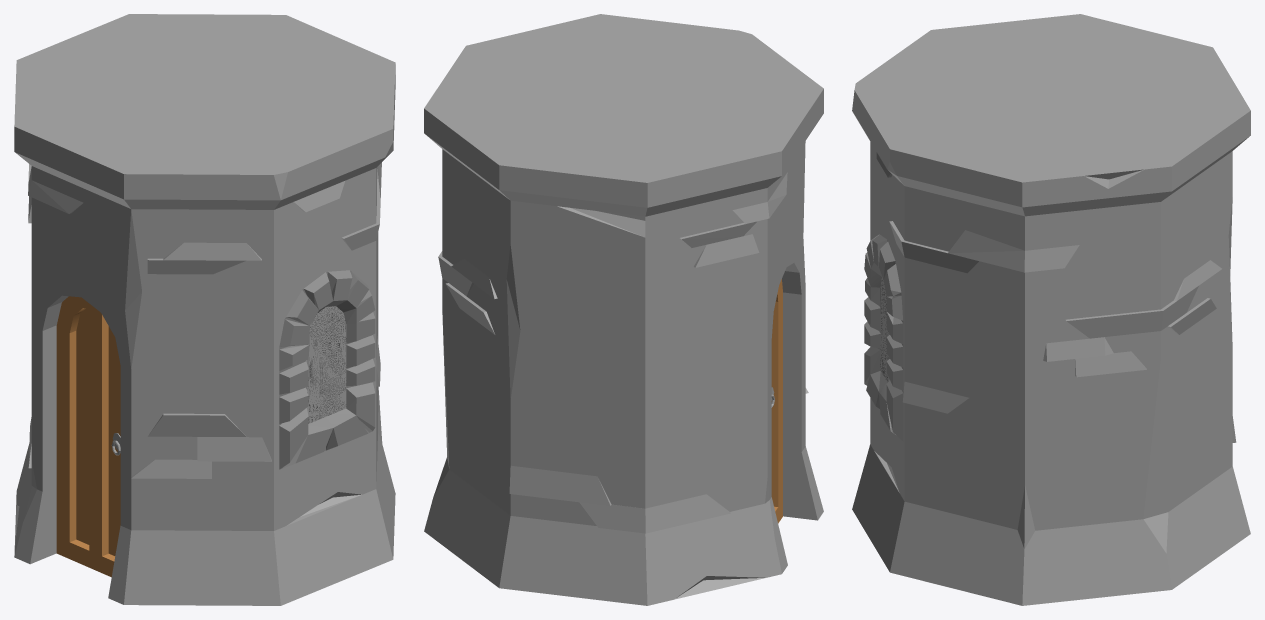
File: Tower11.fbx
3 views of the same model, side by side, from view 1: azimuth 30°, elevation 25°; view 2: azimuth 150°, elevation 25°; view 3: azimuth 270°, elevation 25° (orthographic).
Visible parts, largest first — view 1: Group4, Group5, Group2; view 2: Group4, Group5; view 3: Group4, Group2.
Boxes of the visible parts, x1,y1,x2,y2 form: Group4: (14,14,395,605); Group5: (56,296,120,577); Group2: (279,270,375,469); Group4: (424,14,823,605); Group5: (771,279,782,523); Group4: (852,14,1250,605); Group2: (864,234,903,440).
Size of the model in its own units: 2177 by 2550 by 2177.
